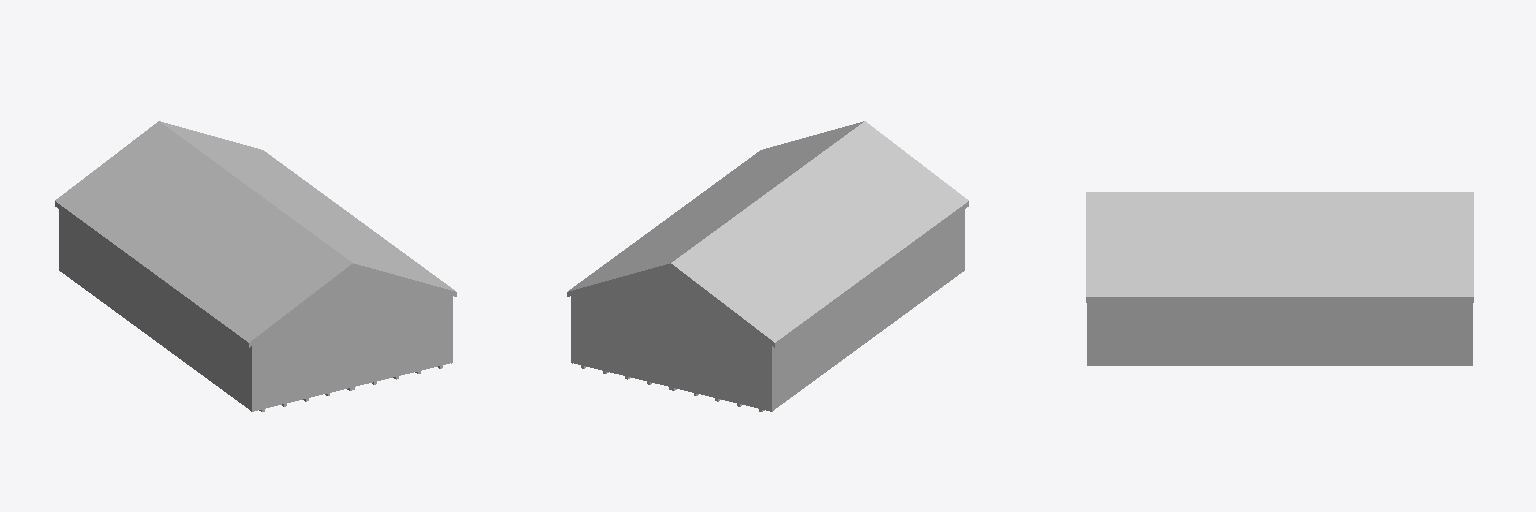
Rendered from Double Garage 6-12 PITCH ROOF_24x40.obj.
3 views of the same model, side by side, from view 1: azimuth 30°, elevation 25°; view 2: azimuth 150°, elevation 25°; view 3: azimuth 270°, elevation 25° (orthographic).
Visible parts, largest first — view 1: Double Garage 6-12 PITCH ROOF_24x40.obj; view 2: Double Garage 6-12 PITCH ROOF_24x40.obj; view 3: Double Garage 6-12 PITCH ROOF_24x40.obj.
Part boxes in pixels (left/top/right/bottom): Double Garage 6-12 PITCH ROOF_24x40.obj: left=55, top=121, right=456, bottom=411; Double Garage 6-12 PITCH ROOF_24x40.obj: left=567, top=121, right=968, bottom=411; Double Garage 6-12 PITCH ROOF_24x40.obj: left=1086, top=192, right=1473, bottom=365.
Bounding box in the file's own units: 7.62 × 4.46 × 12.29.